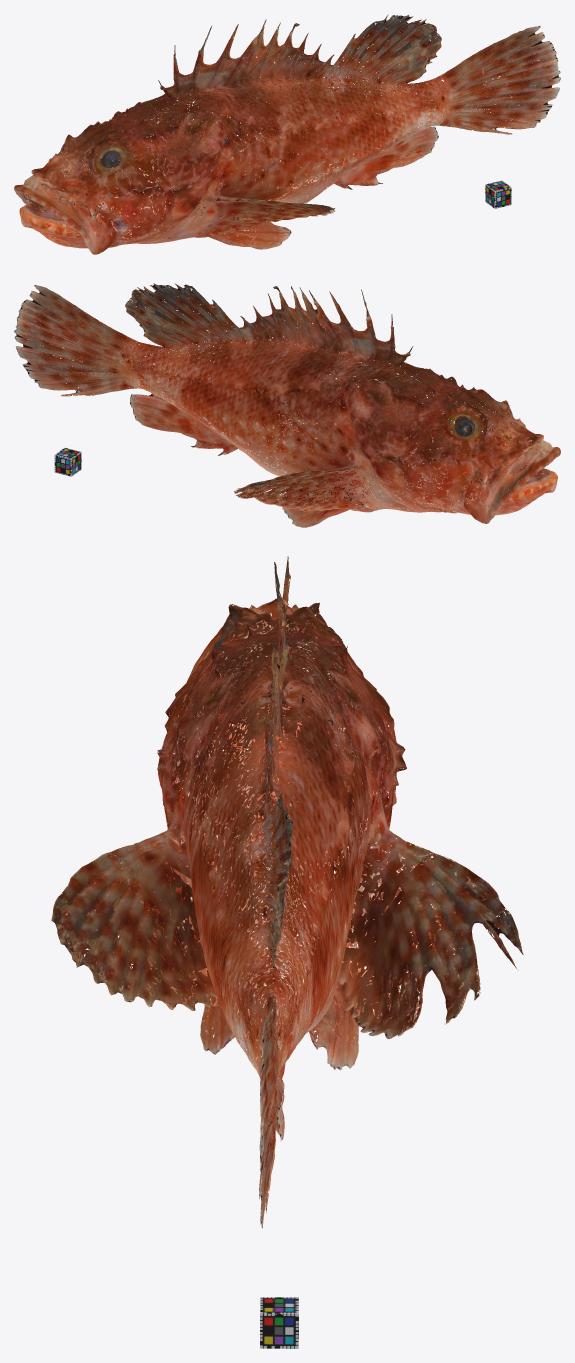
The model's file is scan_scorpion_izu.glb.
3 views of the same model, one above another, from view 1: azimuth 30°, elevation 25°; view 2: azimuth 150°, elevation 25°; view 3: azimuth 270°, elevation 25° (orthographic). The views are drawn at different scales.
Visible parts, largest first — view 1: Object_12, Object_6, Object_18, Object_4; view 2: Object_6, Object_18, Object_12, Object_4; view 3: Object_18, Object_6, Object_12, Object_4.
Part boxes in pixels (<box>): Object_12: <box>14,15,560,253</box>; Object_6: <box>19,15,560,249</box>; Object_18: <box>15,14,549,254</box>; Object_4: <box>485,180,511,208</box>; Object_6: <box>14,283,560,527</box>; Object_18: <box>16,283,560,527</box>; Object_12: <box>14,283,560,527</box>; Object_4: <box>54,447,81,476</box>; Object_18: <box>52,556,523,1212</box>; Object_6: <box>58,559,522,1221</box>; Object_12: <box>51,562,520,1228</box>; Object_4: <box>260,1297,298,1348</box>.
Size of the model in its own units: 14.82 by 6.57 by 5.65.
4 materials, 4 textured.
